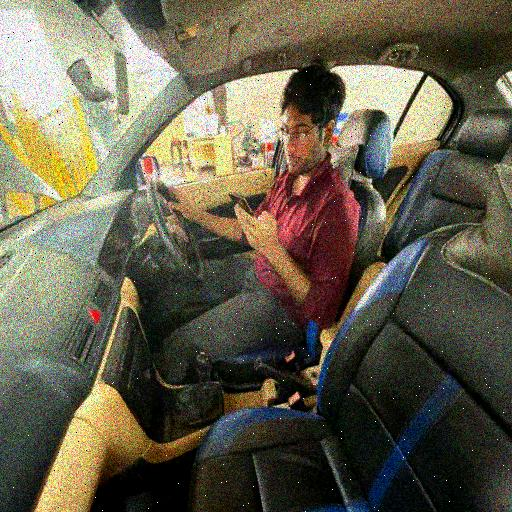Texting_on_phone: (164, 67, 358, 372)
